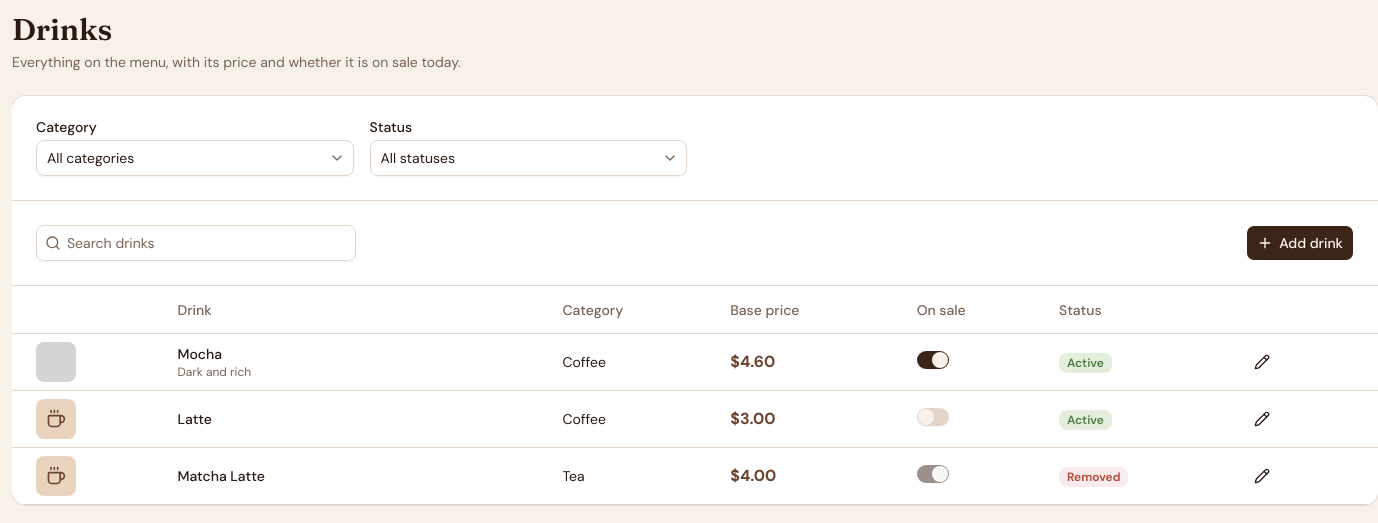
Scenario: ProductsPage (FR-07, FR-22, FR-25) › the status filter separates sold out from removed drinks
The image size is (1378, 523).
Expected: the text "Mocha" is shown, [178,345,222,363]
Click the dropdown labelled "status" at [418, 158], box [370,140,687,176]
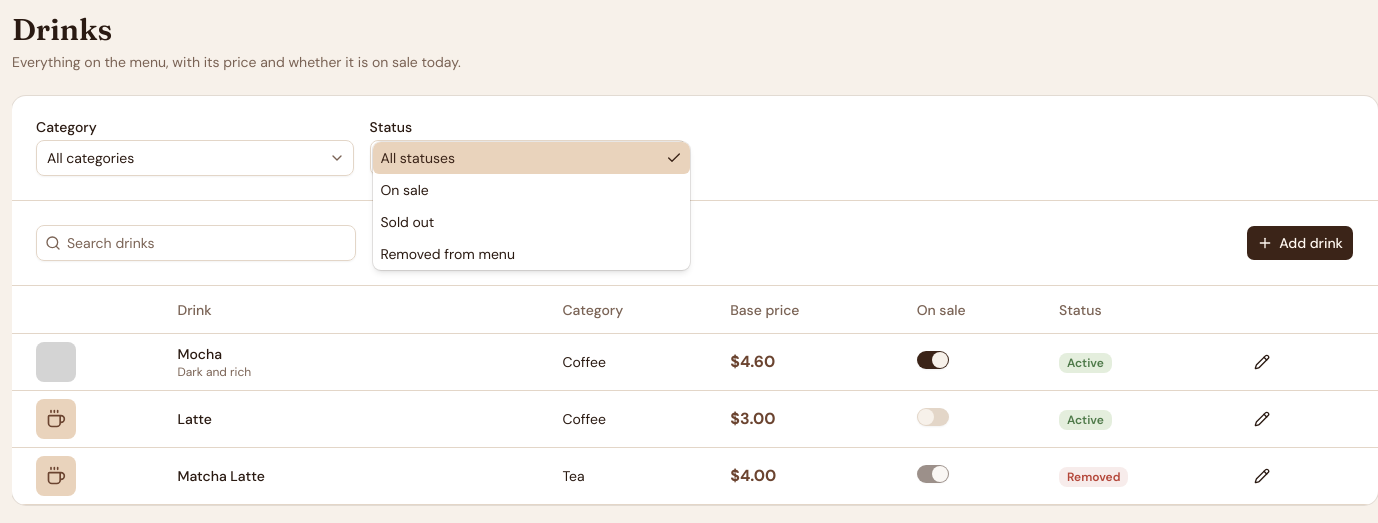
Click the option "Sold out" at [407, 222], box [380,213,434,231]
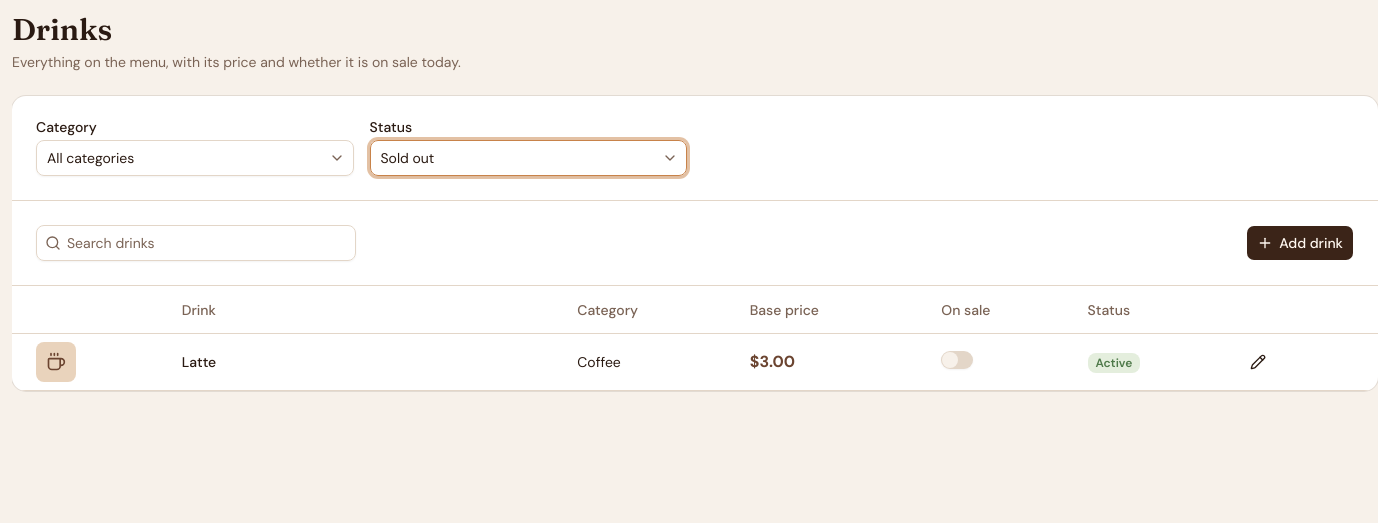
Expected: the text "Latte" is shown, [182,353,216,371]
Now the text "Mocha" is gone
Now the text "Matcha Latte" is gone
Click the dropdown named "Status" at [407, 158], box [370,140,687,176]
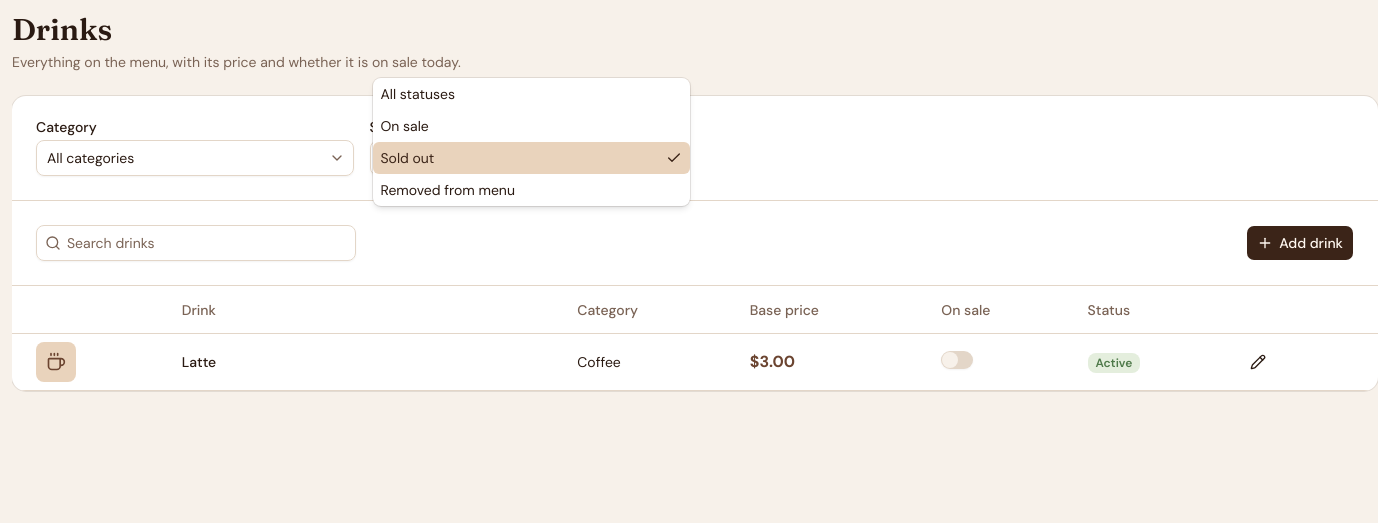
Click the option "Removed from menu" at [448, 190], box [380,181,515,199]
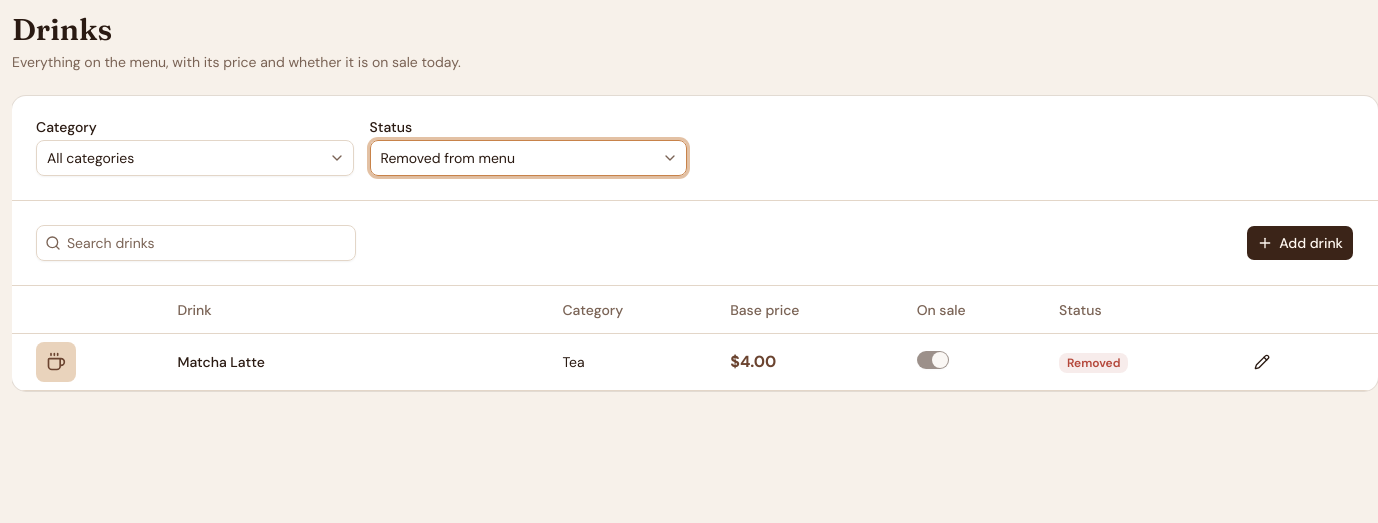
Now the text "Matcha Latte" is shown, box [178,353,265,371]
